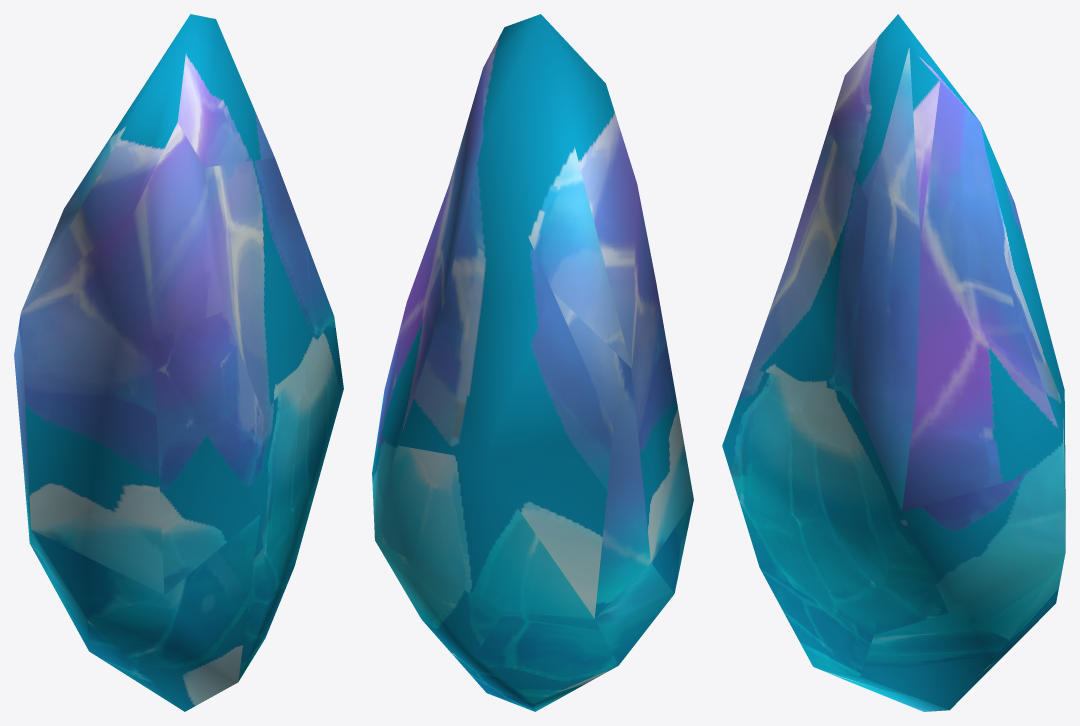
File: fx_crystal_001.fbx
3 views of the same model, side by side, from view 1: azimuth 30°, elevation 25°; view 2: azimuth 150°, elevation 25°; view 3: azimuth 270°, elevation 25° (orthographic). The views are drawn at different scales.
Parts seen in each view (by area): view 1: fx_crystal_001; view 2: fx_crystal_001; view 3: fx_crystal_001.
Boxes of the visible parts, bbox=[...] form: fx_crystal_001: bbox=[14, 14, 343, 711]; fx_crystal_001: bbox=[372, 14, 693, 711]; fx_crystal_001: bbox=[722, 14, 1065, 711].
Size of the model in its own units: 35.24 by 80.03 by 35.53.
